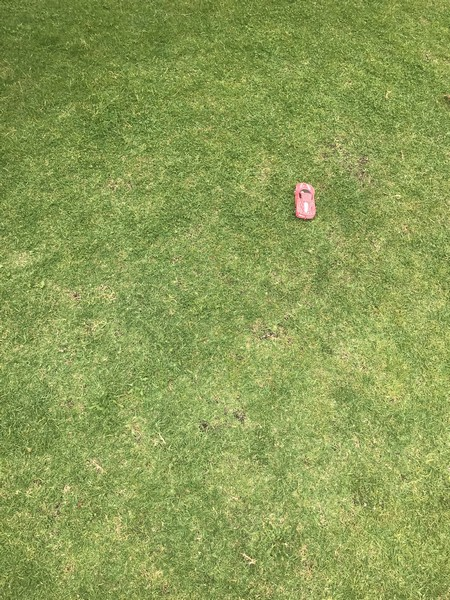RC: (291, 179, 318, 222)
